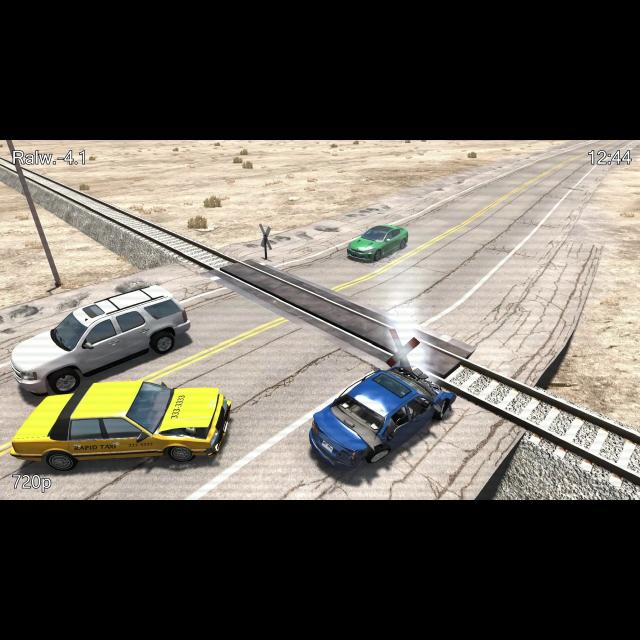accident: (301, 311, 502, 479)
